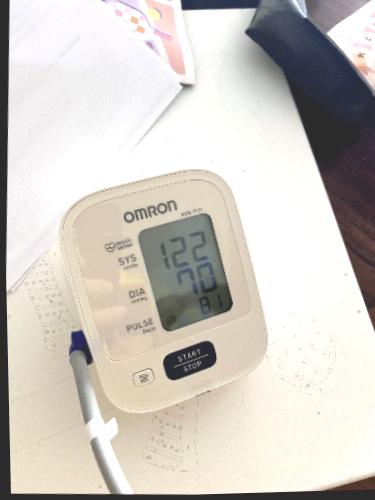bpm: (132, 210, 238, 336)
